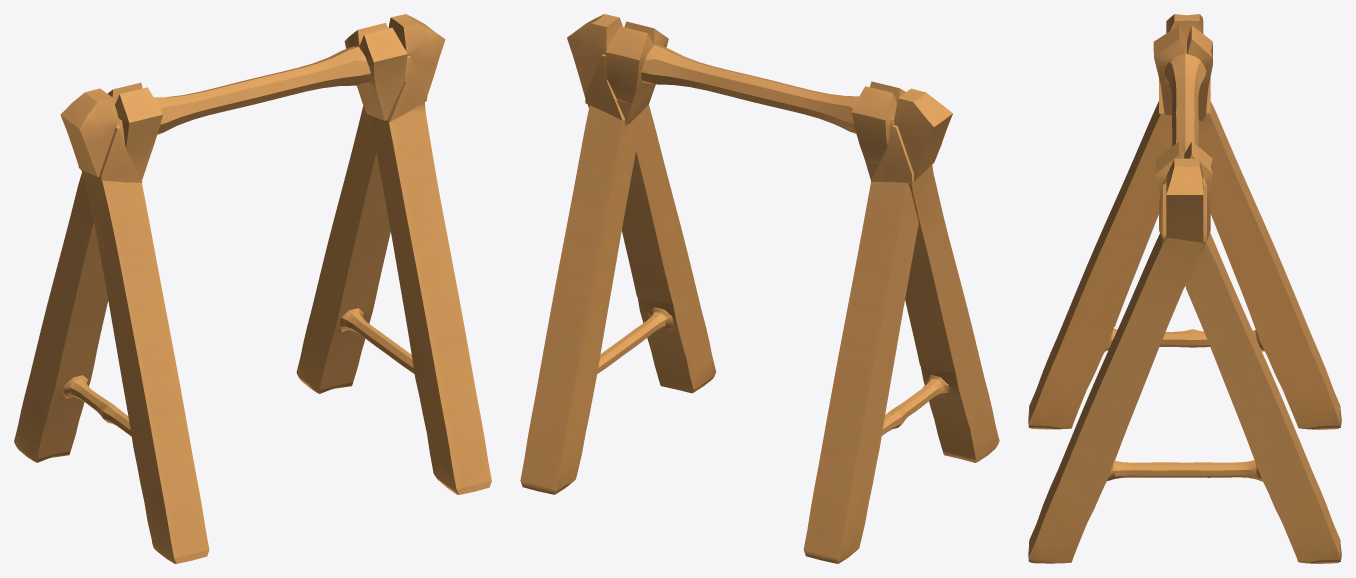
Rendered from base_basic_pbr.fbx.
The picture shows the model from 3 angles, left to right: view 1: azimuth 30°, elevation 25°; view 2: azimuth 150°, elevation 25°; view 3: azimuth 270°, elevation 25°; orthographic projection. The views are drawn at different scales.
Parts seen in each view (by area): view 1: model; view 2: model; view 3: model.
Part boxes in pixels (x1,y1,x2,y2): model: (14, 14, 491, 563); model: (520, 14, 999, 563); model: (1028, 14, 1341, 563).
Bounding box in the file's own units: 160 × 173 × 122.
1 material, 1 textured.
